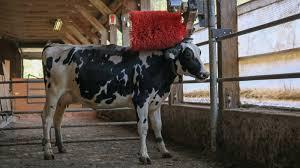cow: (40, 38, 211, 165)
